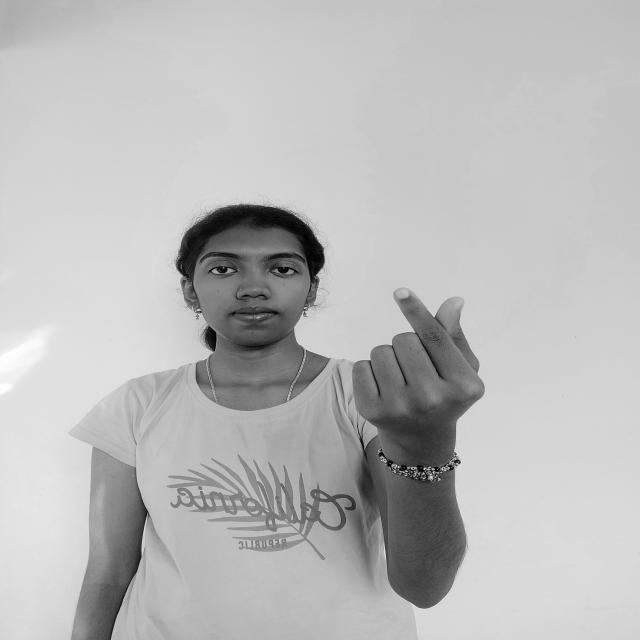Grattitude: (335, 278, 498, 451)
